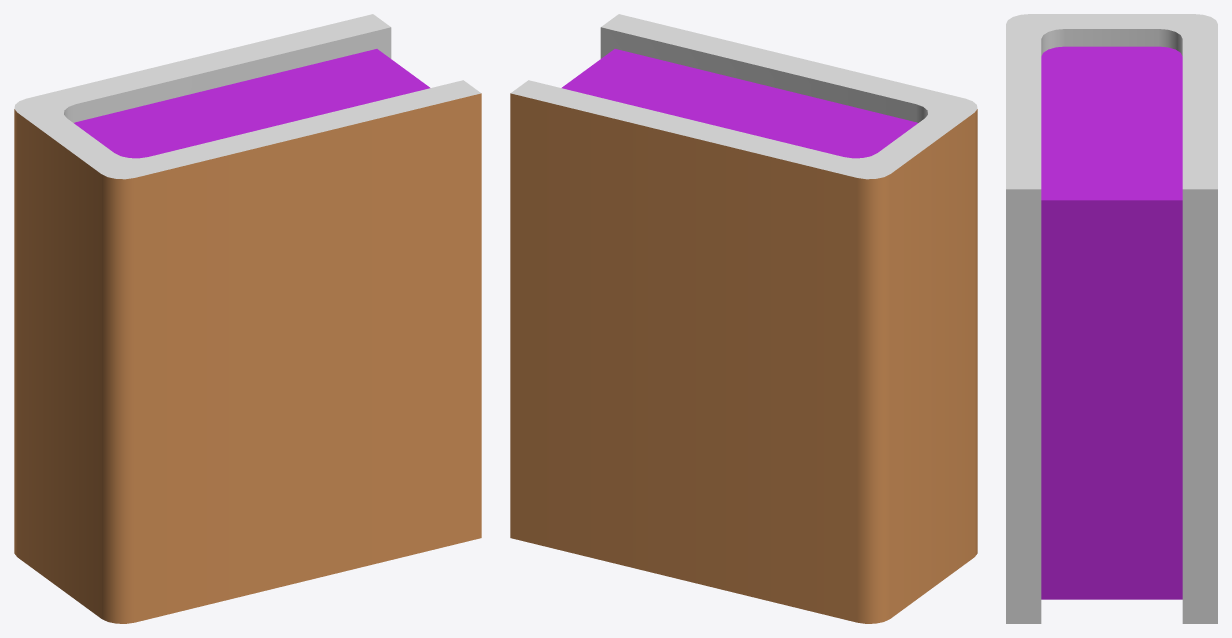
File: Bock.fbx
3 views of the same model, side by side, from view 1: azimuth 30°, elevation 25°; view 2: azimuth 150°, elevation 25°; view 3: azimuth 270°, elevation 25° (orthographic). The views are drawn at different scales.
Parts seen in each view (by area): view 1: bock.001; view 2: bock.001; view 3: bock.001.
Boxes of the visible parts, left/top/right/bottom form: bock.001: left=14, top=14, right=481, bottom=623; bock.001: left=510, top=14, right=977, bottom=623; bock.001: left=1006, top=14, right=1217, bottom=623.
Size of the model in its own units: 52 by 60.08 by 26.55.
